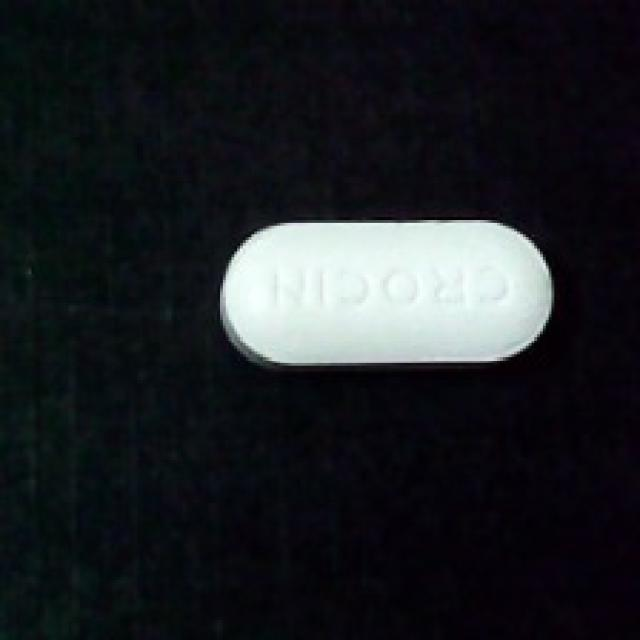no-defect: (220, 214, 557, 377)
